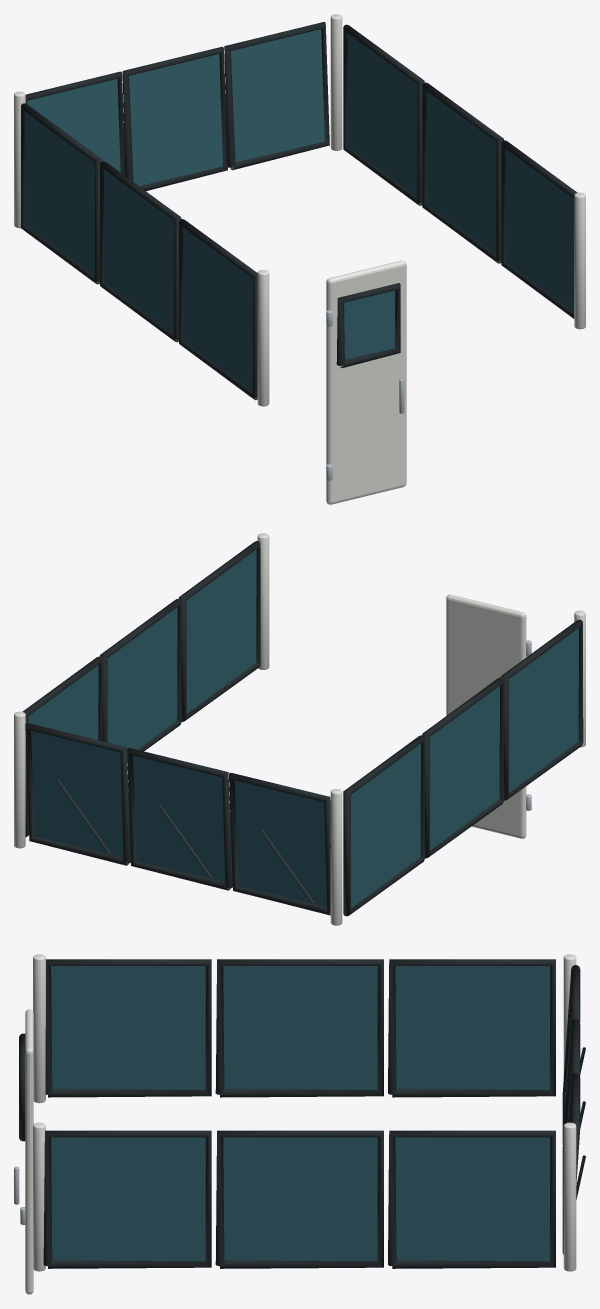
Rendered from coastal_glazing_doors.glb.
3 views of the same model, one above another, from view 1: azimuth 30°, elevation 25°; view 2: azimuth 150°, elevation 25°; view 3: azimuth 270°, elevation 25° (orthographic). The views are drawn at different scales.
Visible parts, largest first — view 1: Watertight entry door, Forward windscreen 3, Forward windscreen 2, Side bridge glass.002, Side bridge glass.004, Side bridge glass.005, Side bridge glass.001, Side bridge glass, Side bridge glass.003, Forward windscreen 1, Door window, Forward windscreen 3 rubber seal (+13 smaller); view 2: Forward windscreen 3, Forward windscreen 1, Forward windscreen 2, Watertight entry door, Side bridge glass.003, Side bridge glass.001, Side bridge glass.002, Side bridge glass, Side bridge glass.004, Side bridge glass.005, Forward windscreen 3 rubber seal, Forward windscreen 2 rubber seal (+10 smaller); view 3: Side bridge glass.003, Side bridge glass.004, Side bridge glass.005, Side bridge glass, Side bridge glass.001, Side bridge glass.002, Side bridge glass rubber seal.003, Side bridge glass rubber seal.004, Side bridge glass rubber seal.005, Side bridge glass rubber seal.001, Side bridge glass rubber seal.002, Side bridge glass rubber seal (+9 smaller).
Boxes of the visible parts, box(x1,y1,x2,y2) form: Watertight entry door: box(326, 260, 406, 504); Forward windscreen 3: box(231, 29, 324, 162); Forward windscreen 2: box(129, 54, 222, 185); Side bridge glass.002: box(24, 112, 94, 274); Side bridge glass.004: box(426, 91, 496, 254); Side bridge glass.005: box(347, 33, 417, 196); Side bridge glass.001: box(104, 170, 173, 333); Side bridge glass: box(183, 227, 252, 390); Side bridge glass.003: box(505, 149, 574, 311); Forward windscreen 1: box(27, 78, 120, 172); Door window: box(344, 290, 394, 359); Forward windscreen 3 rubber seal: box(224, 22, 329, 170); Forward windscreen 3: box(31, 730, 123, 857); Forward windscreen 1: box(234, 780, 326, 906); Forward windscreen 2: box(133, 755, 224, 881); Watertight entry door: box(446, 594, 526, 838); Side bridge glass.003: box(186, 549, 256, 713); Side bridge glass.001: box(430, 686, 499, 850); Side bridge glass.002: box(351, 744, 420, 908); Side bridge glass: box(509, 628, 578, 792); Side bridge glass.004: box(107, 607, 177, 757); Side bridge glass.005: box(28, 665, 98, 829); Forward windscreen 3 rubber seal: box(25, 723, 130, 865); Forward windscreen 2 rubber seal: box(127, 748, 232, 890); Side bridge glass.003: box(51, 1137, 205, 1261); Side bridge glass.004: box(223, 1137, 377, 1261); Side bridge glass.005: box(395, 1137, 549, 1261); Side bridge glass: box(51, 966, 205, 1090); Side bridge glass.001: box(223, 966, 377, 1090); Side bridge glass.002: box(395, 966, 549, 1090); Side bridge glass rubber seal.003: box(43, 1130, 211, 1268); Side bridge glass rubber seal.004: box(215, 1130, 383, 1268); Side bridge glass rubber seal.005: box(388, 1130, 555, 1268); Side bridge glass rubber seal.001: box(215, 959, 383, 1097); Side bridge glass rubber seal.002: box(388, 959, 555, 1097); Side bridge glass rubber seal: box(45, 959, 211, 1097).
Bounding box in the file's own units: 2.91 × 2.06 × 4.02.
